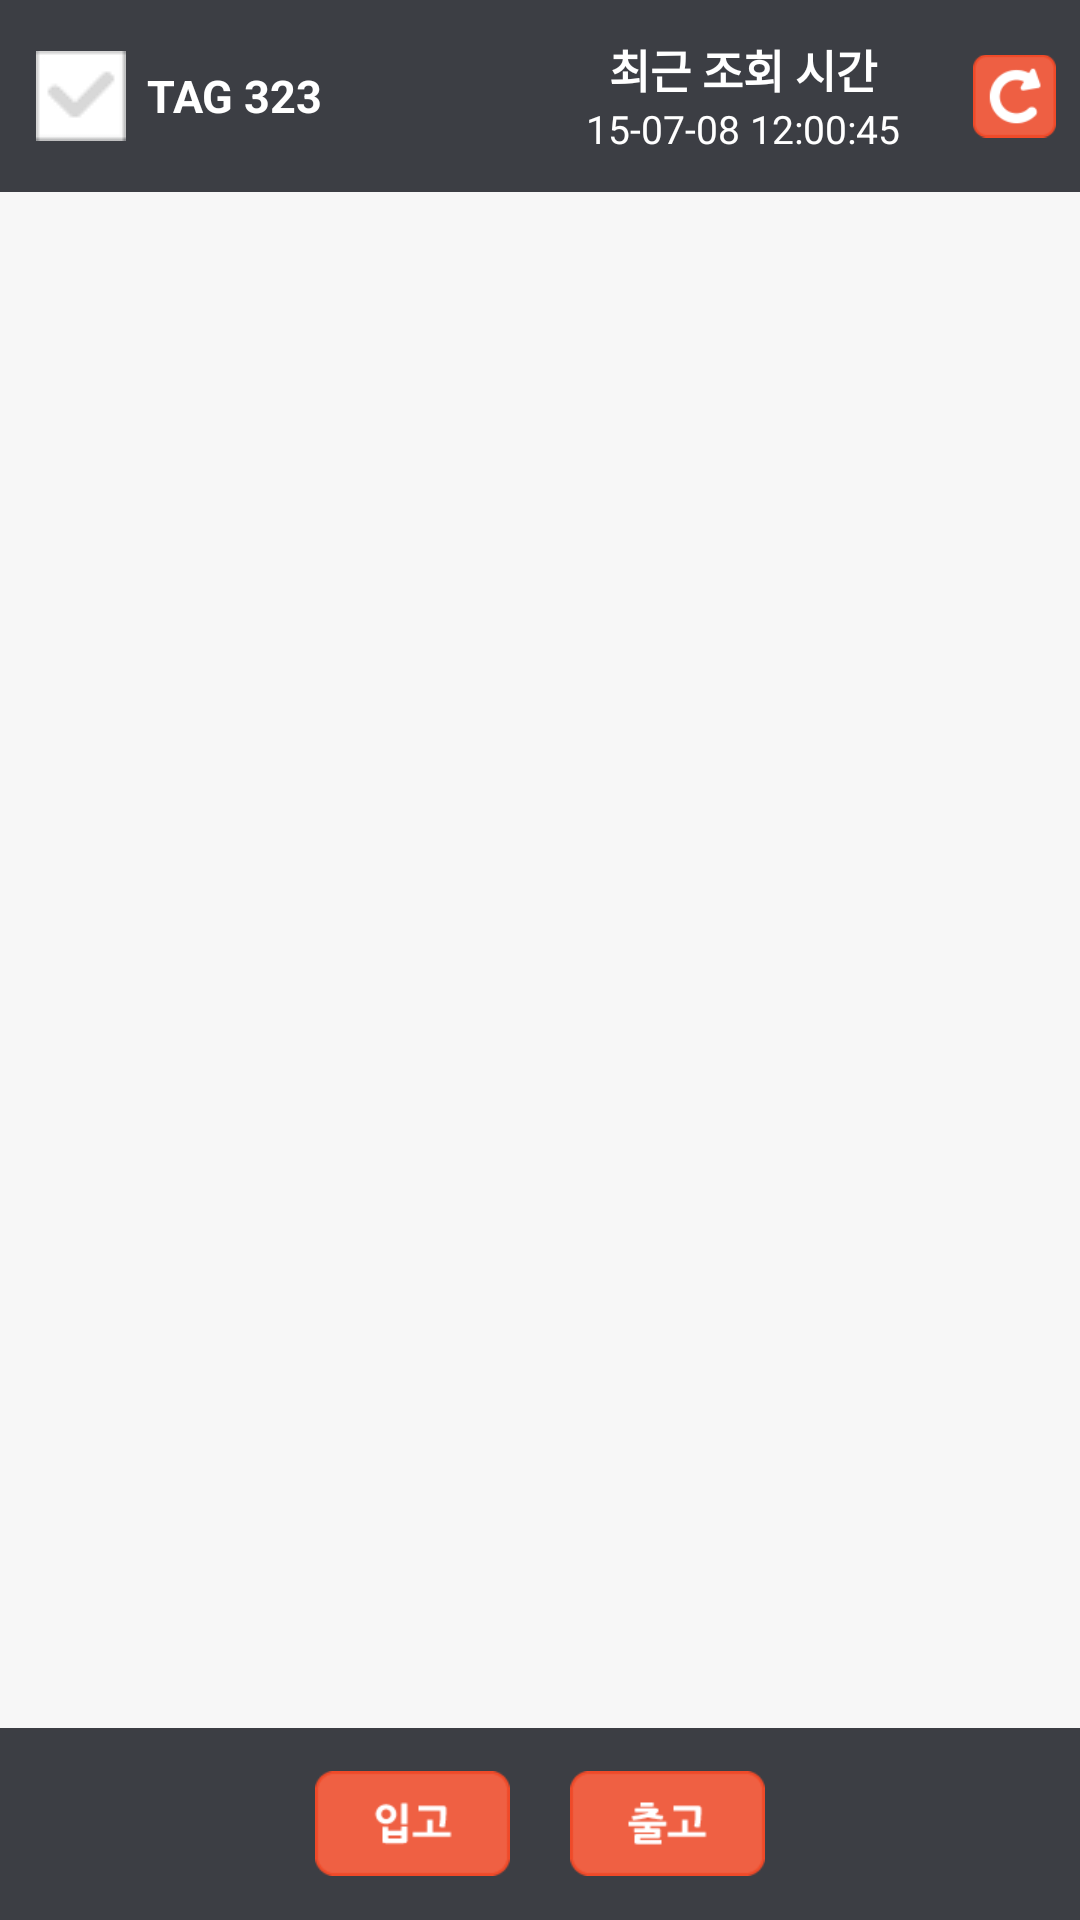

Icons on this 1080px×1920px Android screen, each with the point to tap as (x,y):
refresh: (1014,96)
